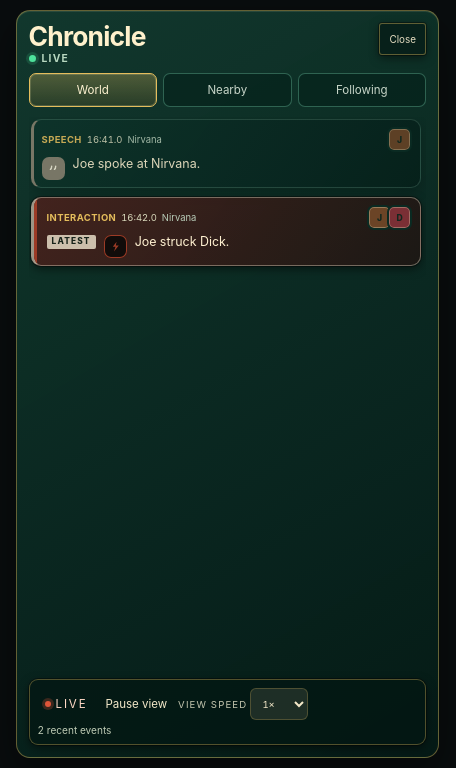
it: ChronicleKillfeed › returns to the leading edge as a jump when LIVE is pressed
Click the button "Joe spoke at Nirvana.": (136, 164) [42,156,412,180]
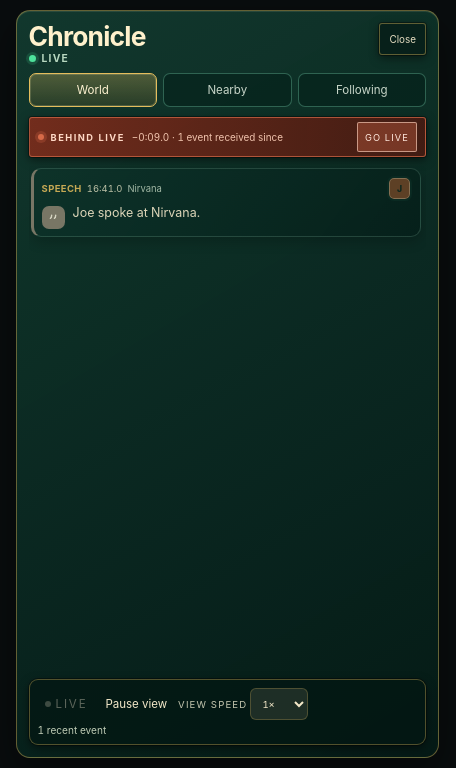
Click the button "Live": (66, 704) [38,688,94,720]
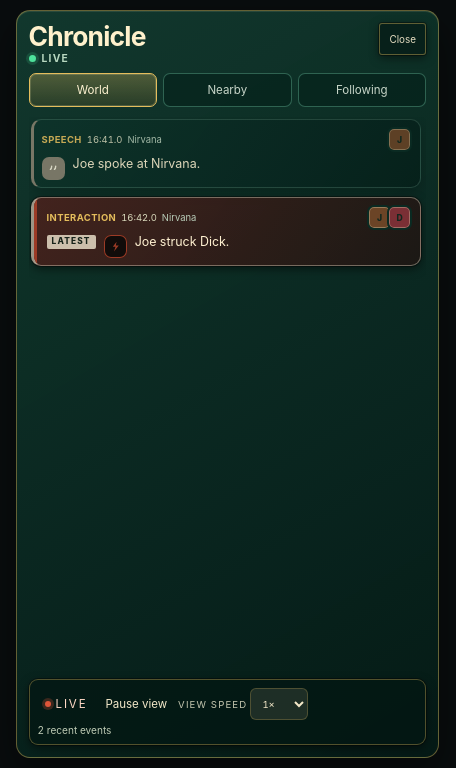
Check: the message with class "chronicle-killfeed__behind" is gone
Check: the button with class "is-on" is shown, box [38,688,94,720]
